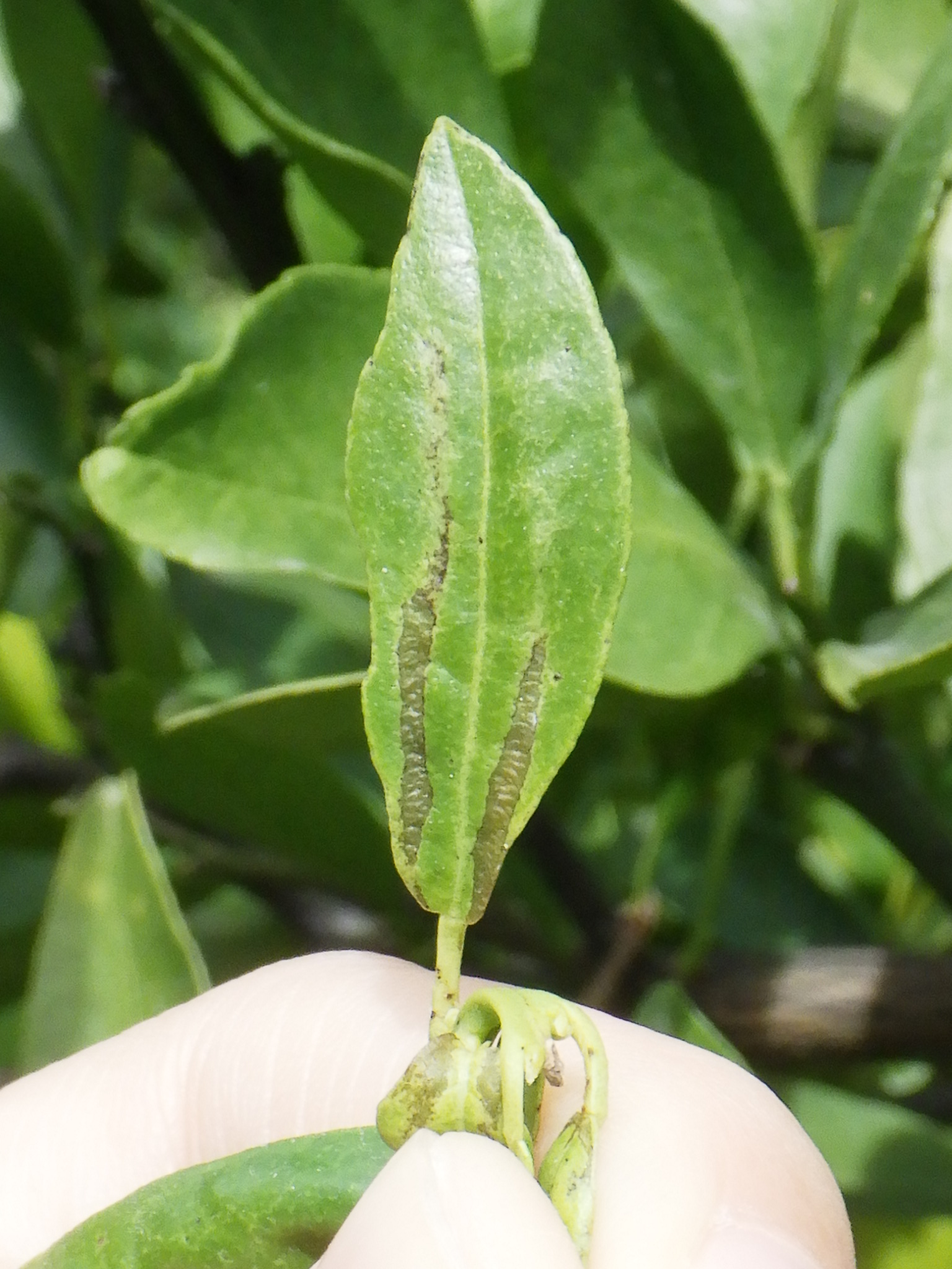Thrips_Damage: (394, 511, 547, 923)
